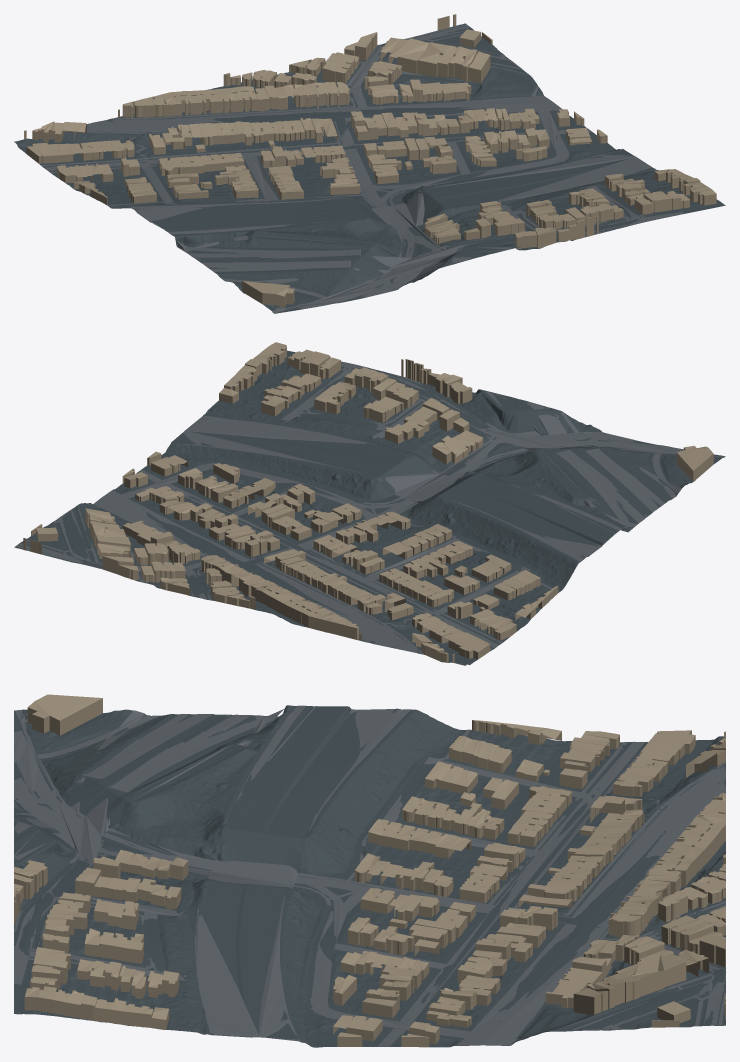
File: epsg26910-1432-10875.lod0.glb
3 views of the same model, one above another, from view 1: azimuth 30°, elevation 25°; view 2: azimuth 150°, elevation 25°; view 3: azimuth 270°, elevation 25° (orthographic). The views are drawn at different scales.
Visible parts, largest first — view 1: epsg26910-1432-10875-lod0; view 2: epsg26910-1432-10875-lod0; view 3: epsg26910-1432-10875-lod0.
Boxes of the visible parts, x1,y1,x2,y2 form: epsg26910-1432-10875-lod0: (14,14,725,313); epsg26910-1432-10875-lod0: (14,342,725,665); epsg26910-1432-10875-lod0: (14,694,725,1047).
Size of the model in its own units: 384 by 37.8 by 384.
